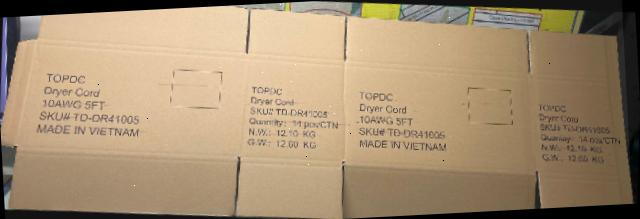box: (1, 5, 632, 218)
